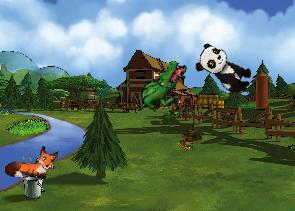crocodile: (135, 53, 188, 121)
fox: (4, 142, 59, 182)
panda: (191, 40, 258, 98)
